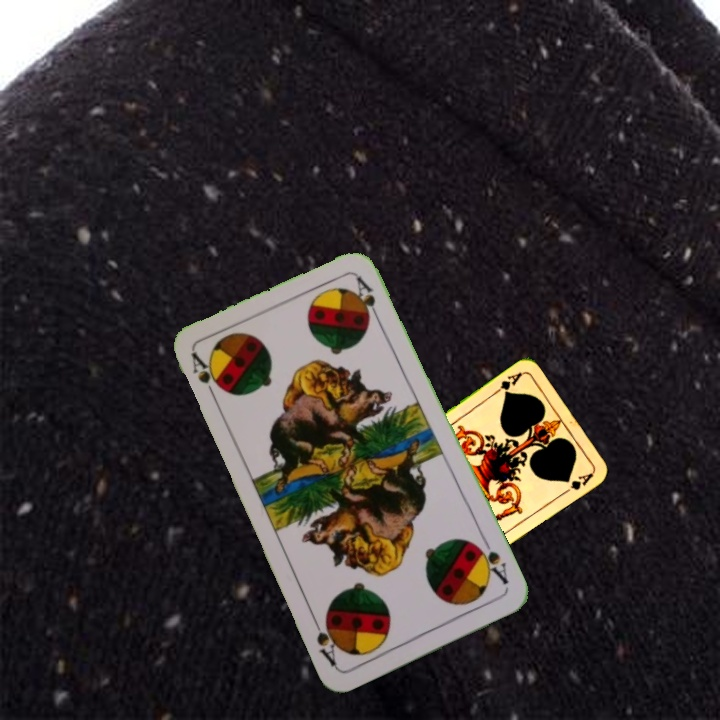GA: (489, 368, 525, 398)
SA: (470, 535, 511, 588), (187, 348, 225, 405)
